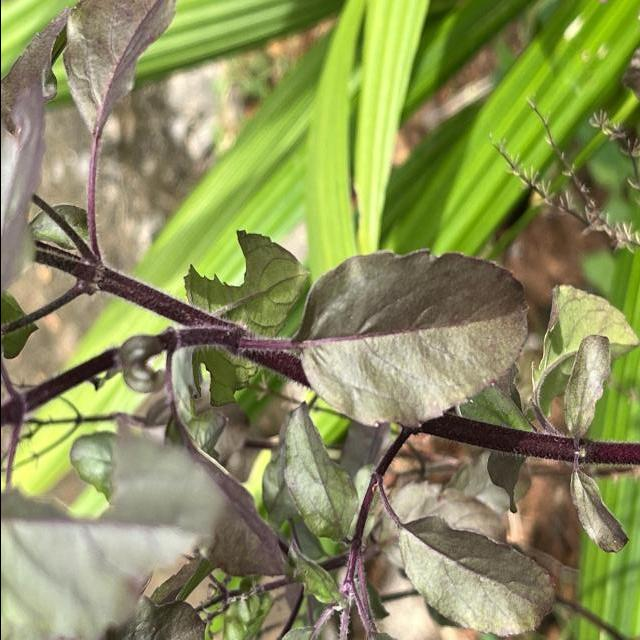Ocimum tenuiflorum: (290, 246, 532, 429)
